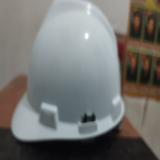Helmet: (11, 0, 125, 141)
